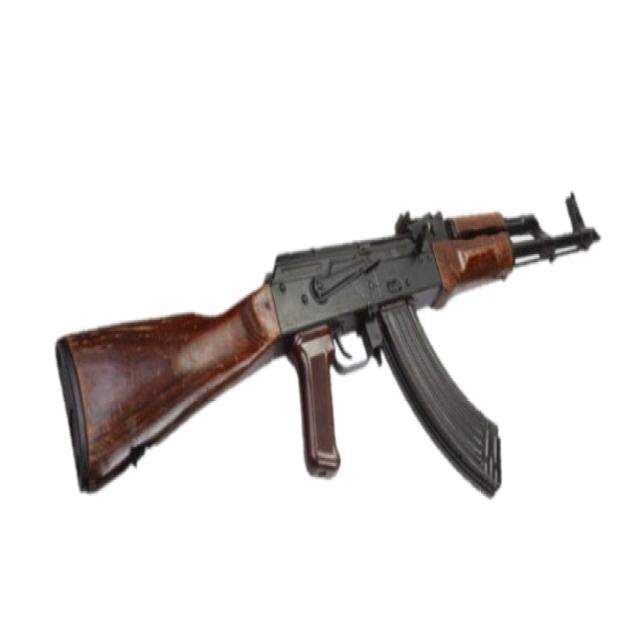rifle: (54, 170, 609, 519)
